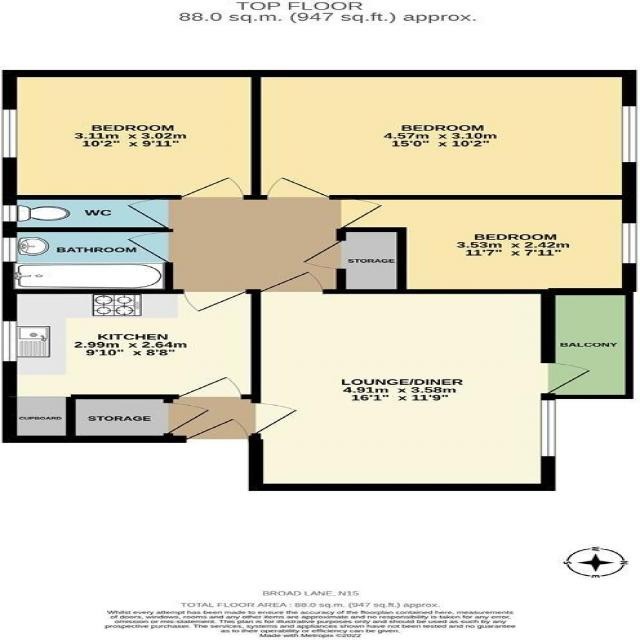DOOR: (182, 416, 252, 443), (539, 361, 592, 395), (250, 401, 301, 435), (264, 175, 333, 200), (176, 375, 244, 400), (178, 175, 246, 200), (181, 288, 248, 313), (258, 270, 327, 294), (335, 198, 386, 230), (124, 231, 173, 263), (124, 198, 171, 230)
ROOM: (249, 268, 595, 492), (251, 69, 638, 200), (2, 288, 261, 443), (2, 69, 262, 200), (336, 194, 638, 295)
WINDOW: (539, 399, 557, 457), (621, 105, 638, 163), (1, 108, 19, 159), (0, 320, 18, 362), (621, 222, 638, 264), (1, 237, 18, 263), (2, 205, 18, 223)
